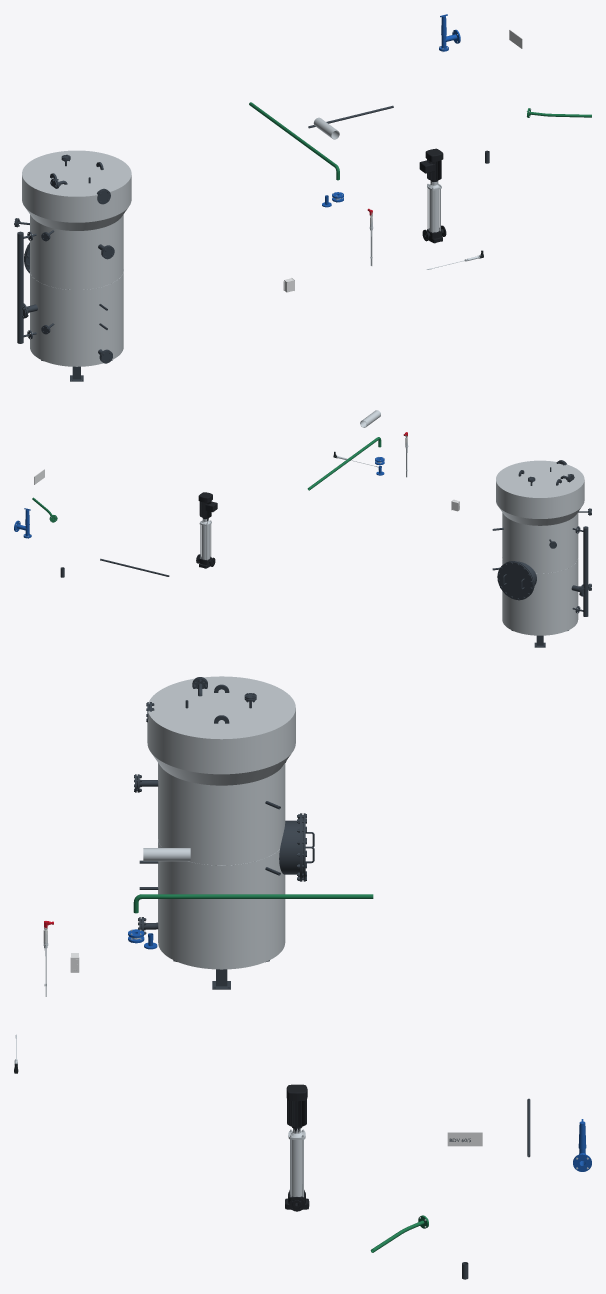
The model's file is s4000-1-CEFgJPoV.glb.
The picture shows the model from 3 angles, top to bottom: view 1: azimuth 30°, elevation 25°; view 2: azimuth 150°, elevation 25°; view 3: azimuth 270°, elevation 25°; orthographic projection. The views are drawn at different scales.
Visible parts, largest first — view 1: deaerator / shell, deaerator / dark, pump_2 CAD solid 15, direct_inlet / green; view 2: deaerator / shell, DA3 CAD 76, deaerator / dark, pump_2 CAD solid 15, direct_inlet / green; view 3: deaerator / shell, direct_inlet / green, DA3 CAD 11, pump_2 CAD solid 15.
Part boxes in pixels (x1=…): deaerator / shell: x1=22, y1=150, x2=131, y2=366; deaerator / dark: x1=17, y1=231, x2=36, y2=343; pump_2 CAD solid 15: x1=419, y1=148, x2=443, y2=181; direct_inlet / green: x1=249, y1=102, x2=339, y2=180; deaerator / shell: x1=496, y1=460, x2=584, y2=635; DA3 CAD 76: x1=497, y1=561, x2=533, y2=600; deaerator / dark: x1=572, y1=526, x2=588, y2=616; pump_2 CAD solid 15: x1=198, y1=492, x2=217, y2=518; direct_inlet / green: x1=307, y1=437, x2=381, y2=490; deaerator / shell: x1=147, y1=676, x2=295, y2=969; direct_inlet / green: x1=133, y1=894, x2=373, y2=913; DA3 CAD 11: x1=279, y1=820, x2=299, y2=874; pump_2 CAD solid 15: x1=286, y1=1084, x2=307, y2=1127.
Size of the model in its own units: 8.51 by 2.6 by 4.99.
